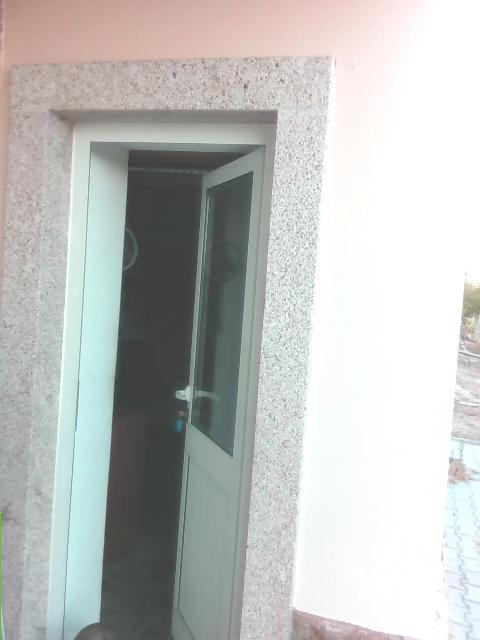semi_door: (56, 134, 270, 639)
